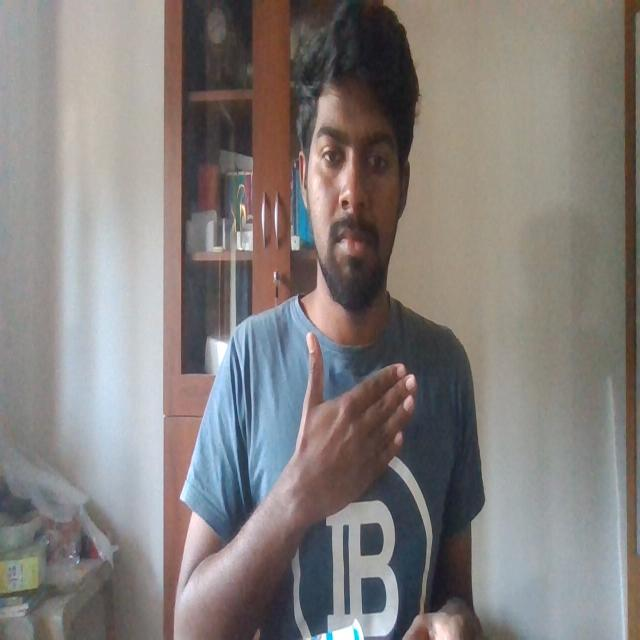Please: (288, 318, 420, 530)
